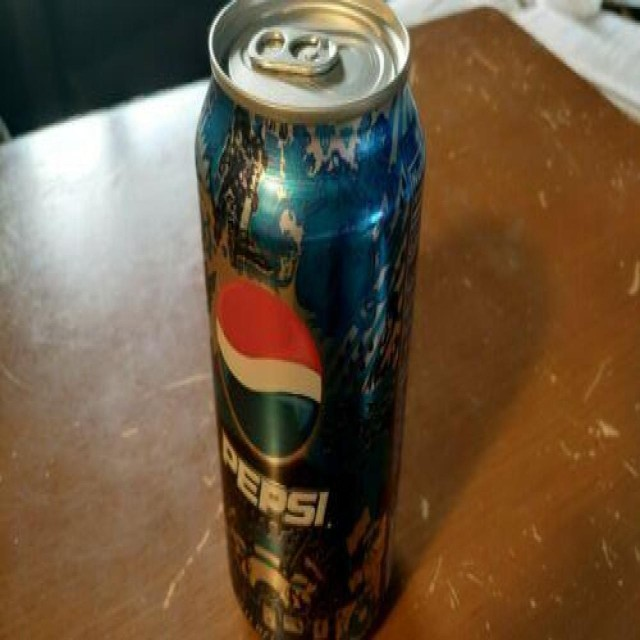pepsi: (214, 273, 323, 465)
